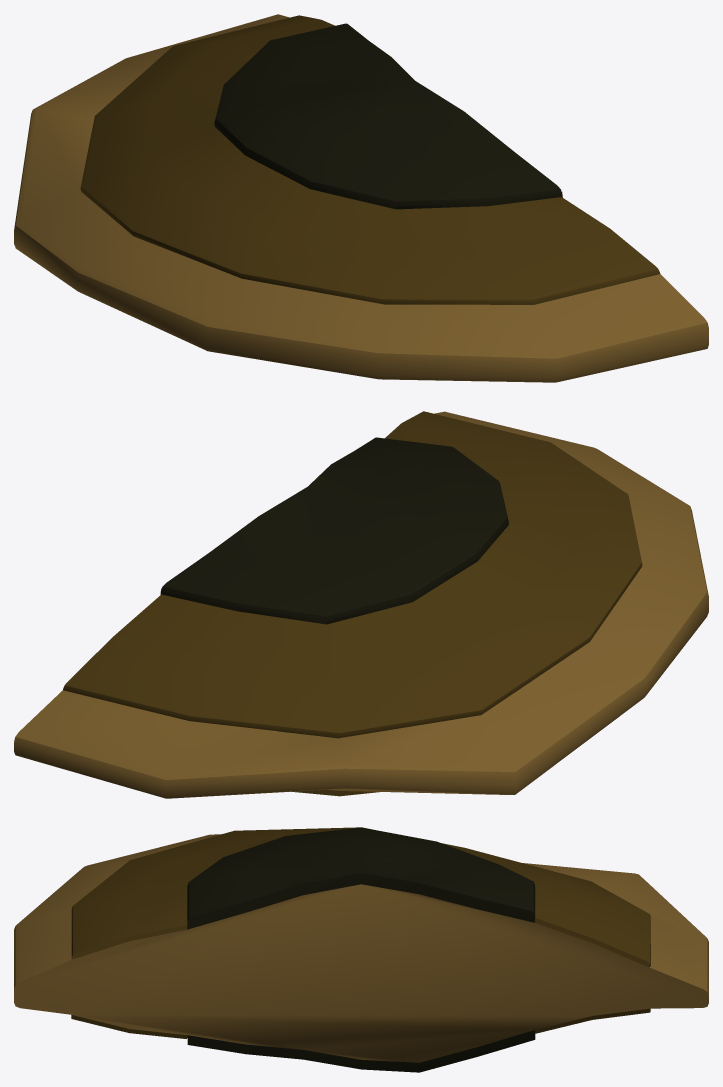
Rendered from WideMushroom03.fbx.
3 renders of one model, top to bottom at view 1: azimuth 30°, elevation 25°; view 2: azimuth 150°, elevation 25°; view 3: azimuth 270°, elevation 25°, orthographic. The views are drawn at different scales.
Visible parts, largest first — view 1: WideMushroom03; view 2: WideMushroom03; view 3: WideMushroom03.
Part boxes in pixels (left/top/right/bottom): WideMushroom03: left=14, top=14, right=708, bottom=382; WideMushroom03: left=14, top=411, right=708, bottom=798; WideMushroom03: left=14, top=827, right=708, bottom=1072.
Bounding box in the file's own units: 27.54 × 15.56 × 49.72.
